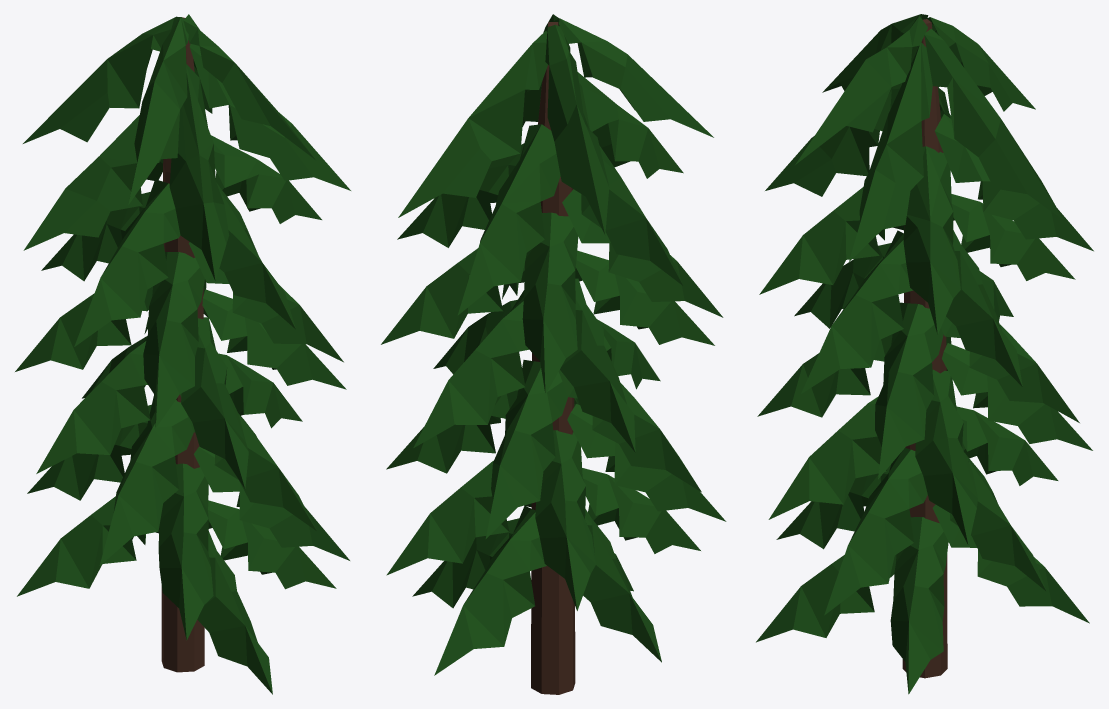
File: Tree.fbx
3 views of the same model, side by side, from view 1: azimuth 30°, elevation 25°; view 2: azimuth 150°, elevation 25°; view 3: azimuth 270°, elevation 25° (orthographic). The views are drawn at different scales.
Visible parts, largest first — view 1: Tree; view 2: Tree; view 3: Tree.
Boxes of the visible parts, x1,y1,x2,y2 form: Tree: (15,14,350,694); Tree: (381,14,726,694); Tree: (756,14,1093,694).
Size of the model in its own units: 699 by 1488 by 699.
